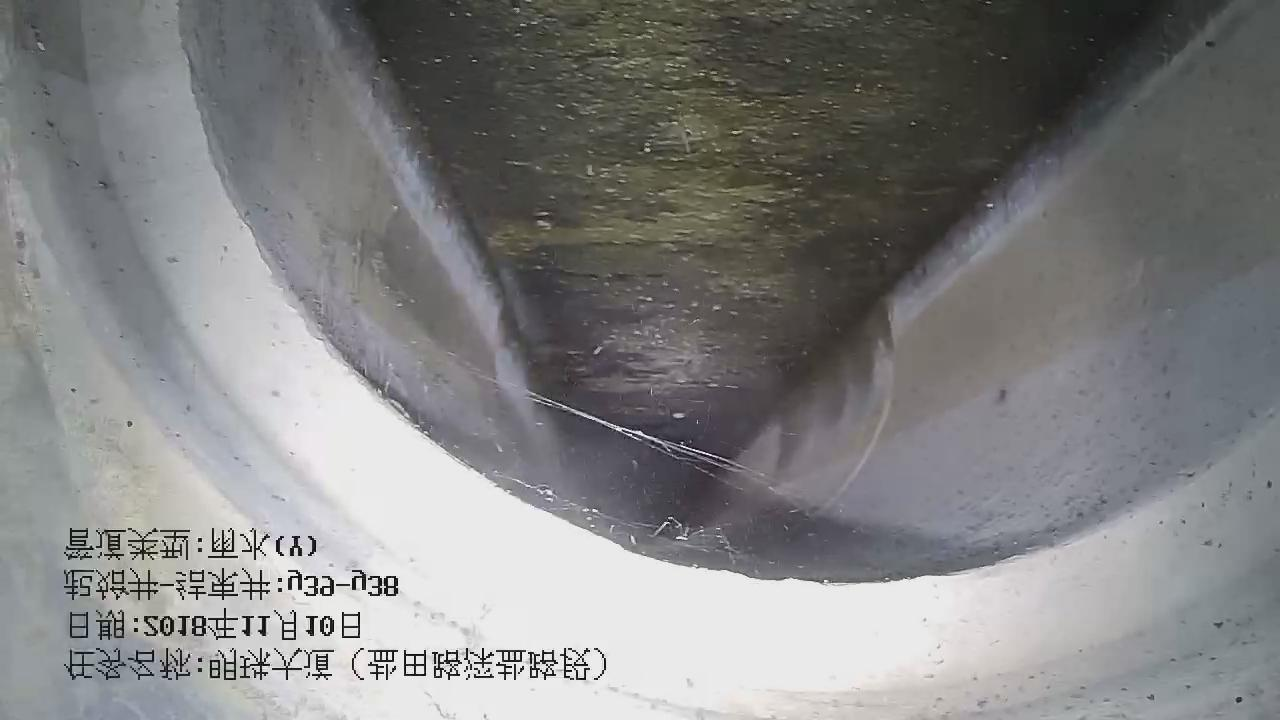FZ: (362, 1, 1155, 525)
